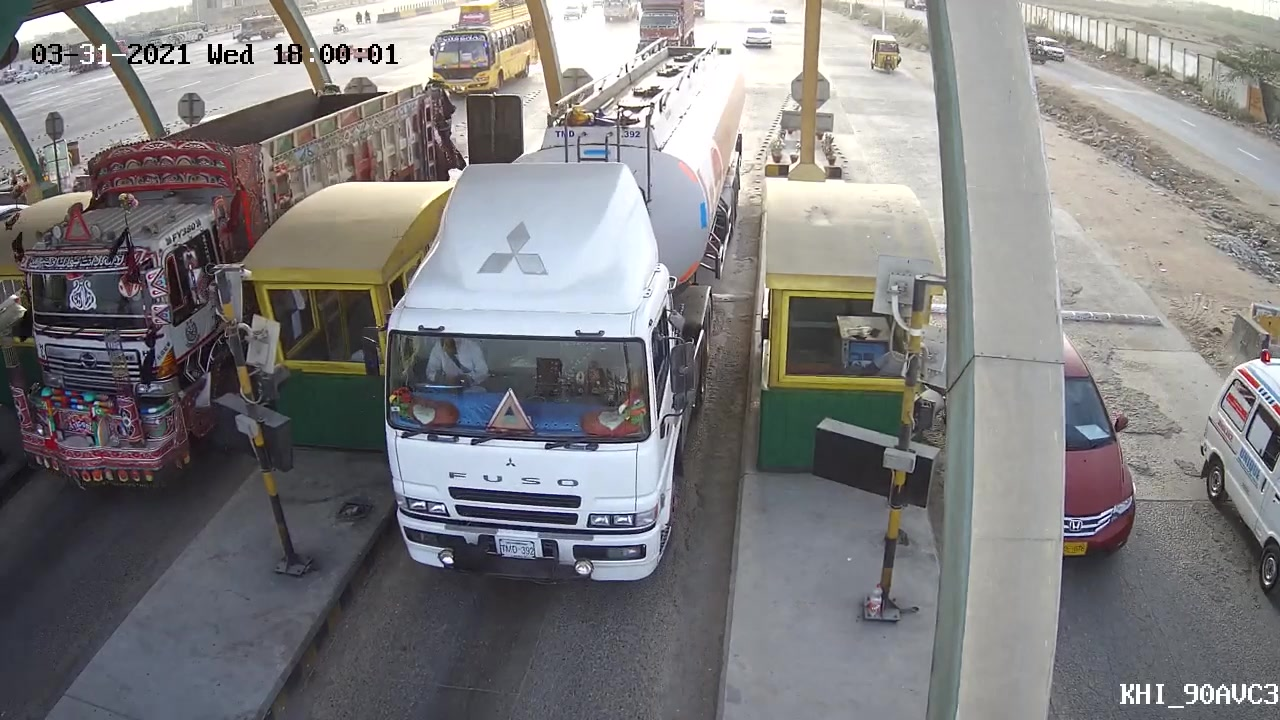F6: (354, 66, 752, 590)
